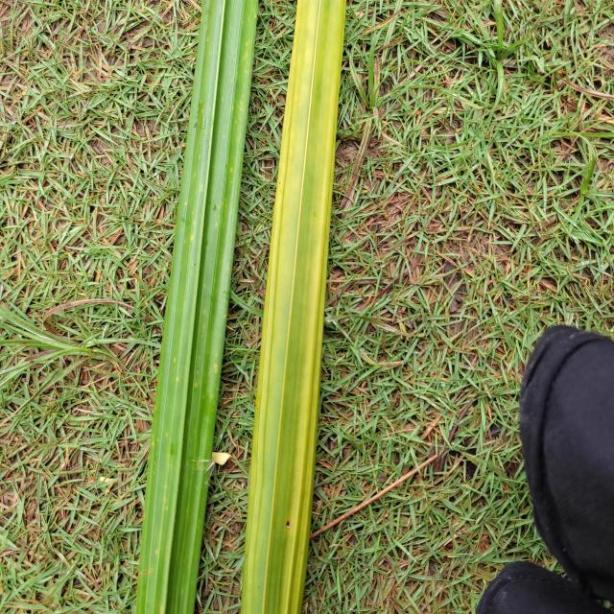nitrogen: (132, 0, 260, 614), (243, 0, 349, 614)
